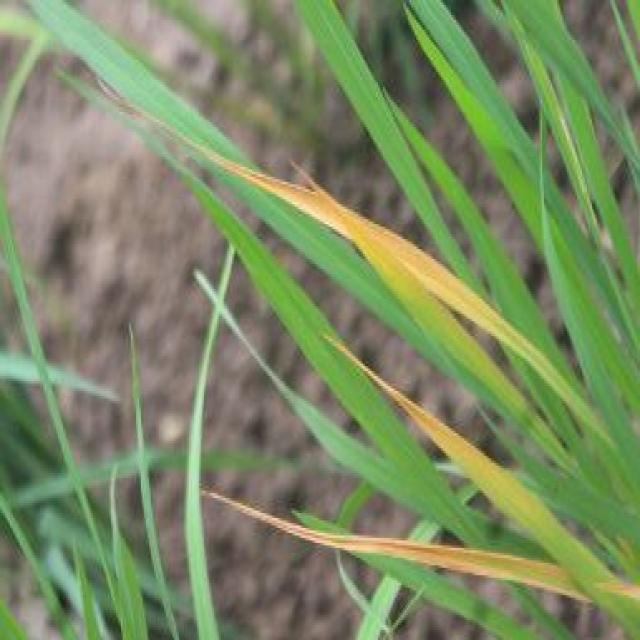Tungro: (227, 150, 538, 392), (204, 466, 640, 625)
